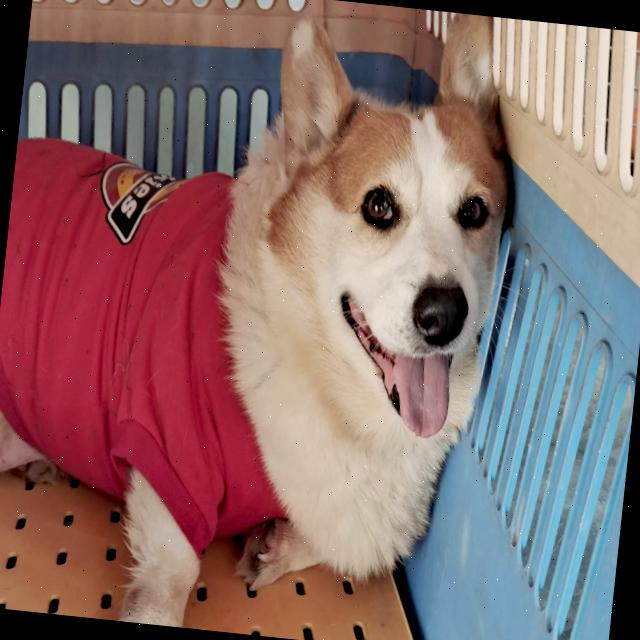corgi_dog: (188, 0, 539, 602)
